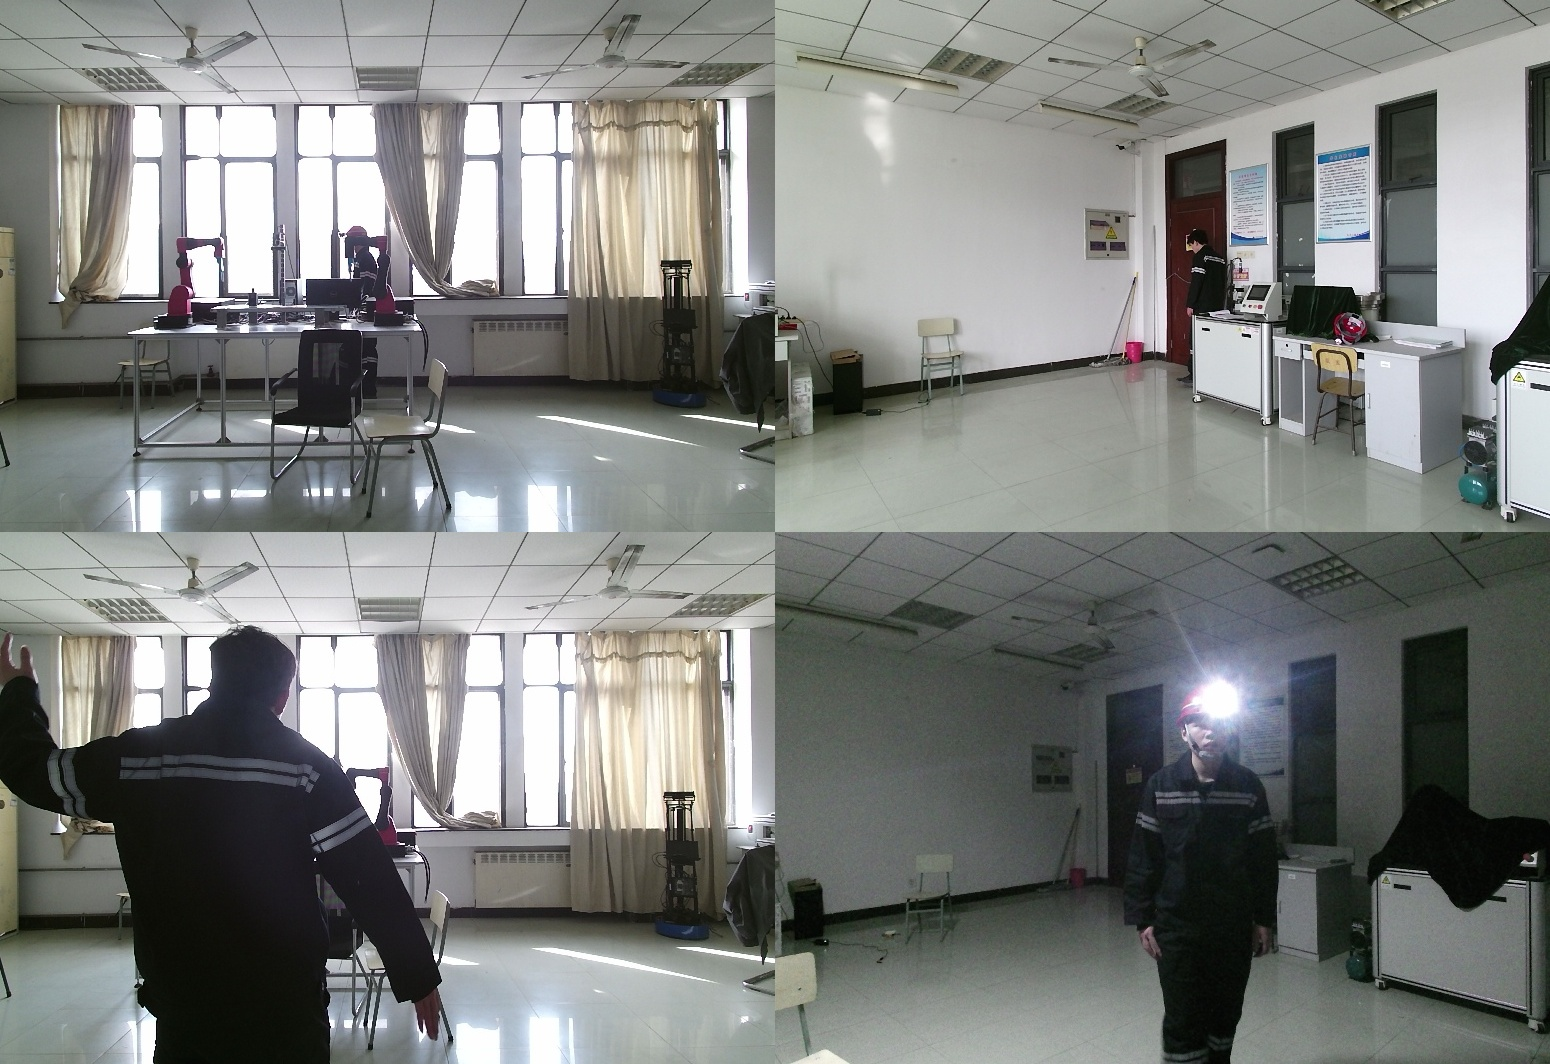person: (1, 629, 451, 1064), (1132, 681, 1293, 1064), (335, 225, 379, 398), (1184, 232, 1230, 387)
